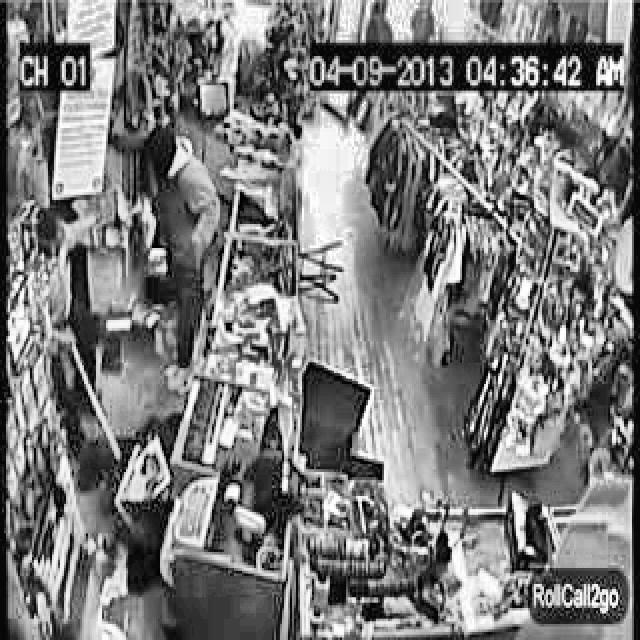robbery: (118, 123, 235, 376), (50, 202, 125, 463)
